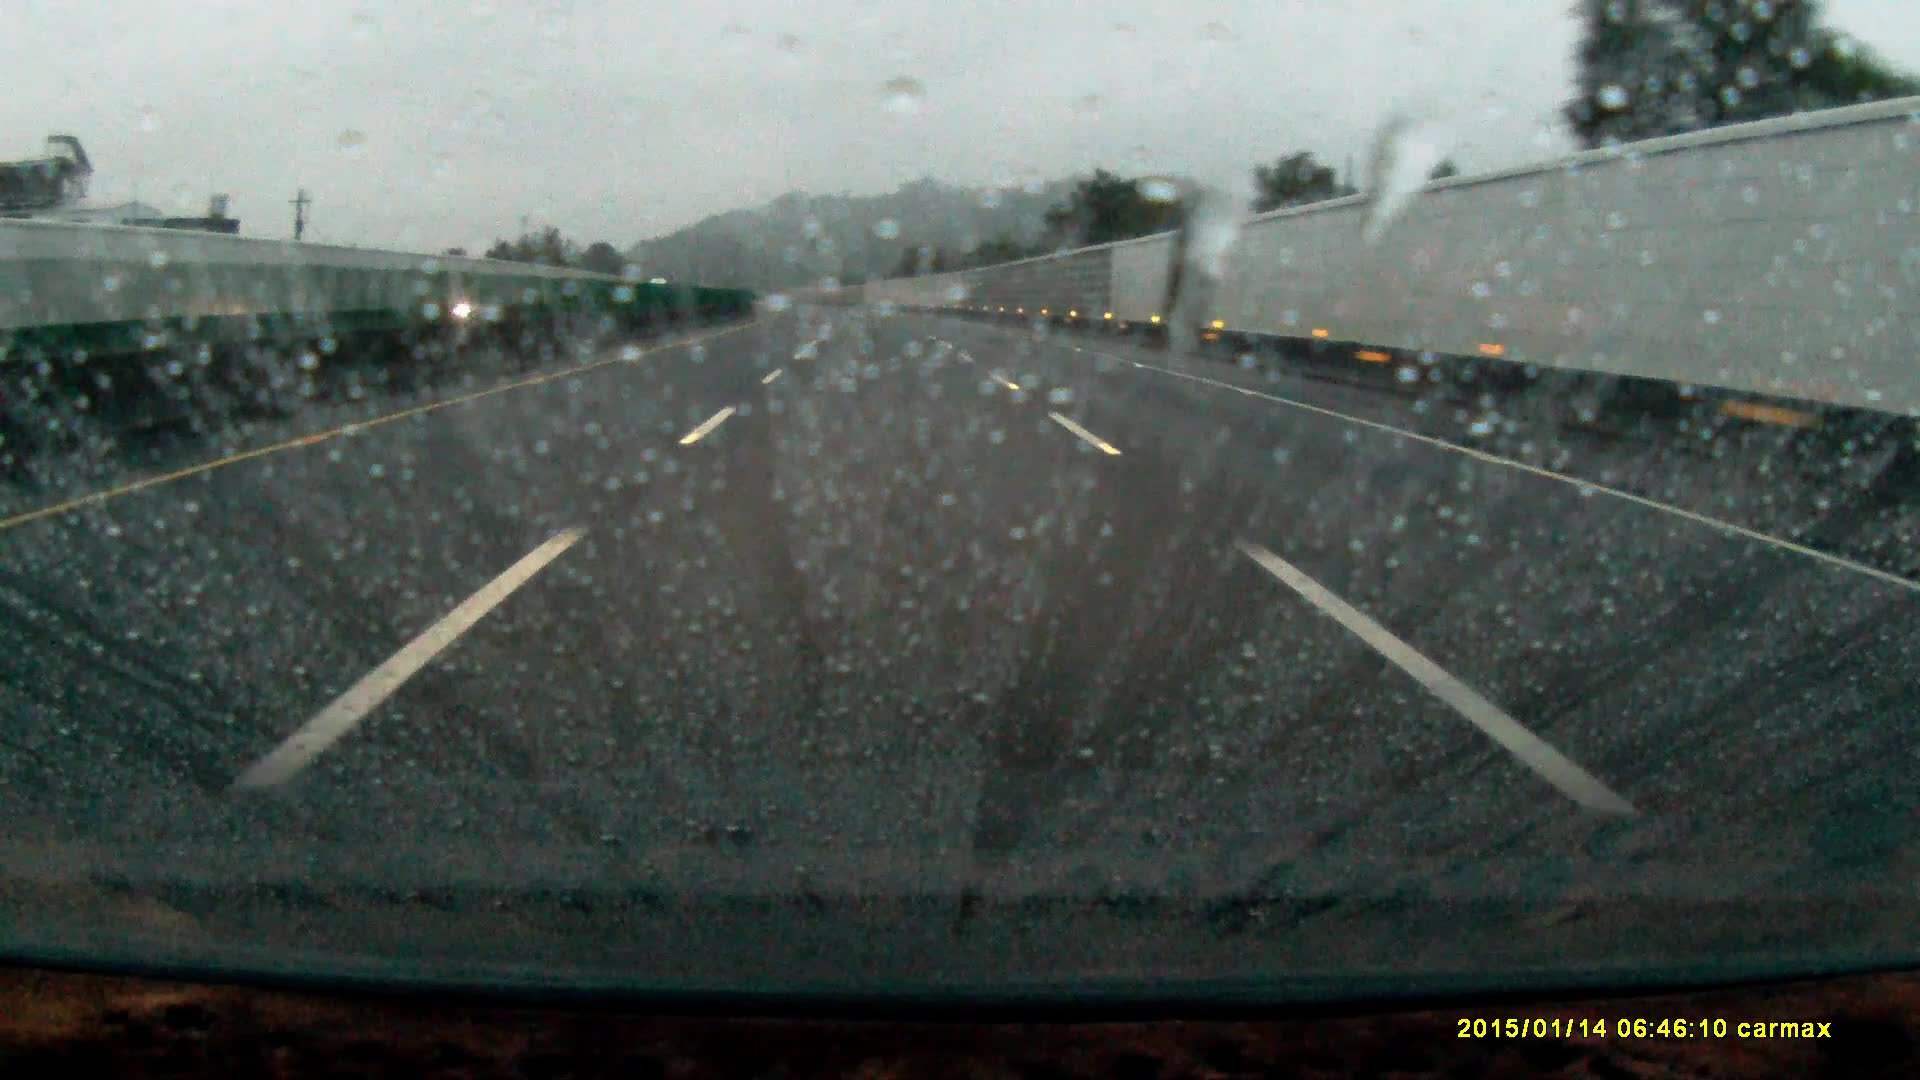vehicle: (458, 293, 512, 320)
